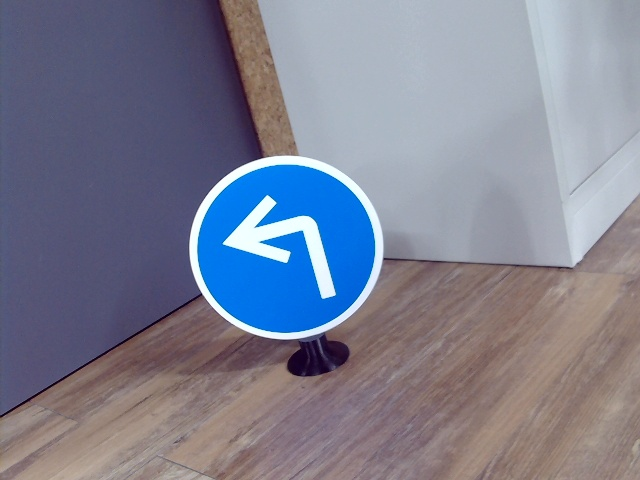turn_left: (216, 193, 343, 308)
